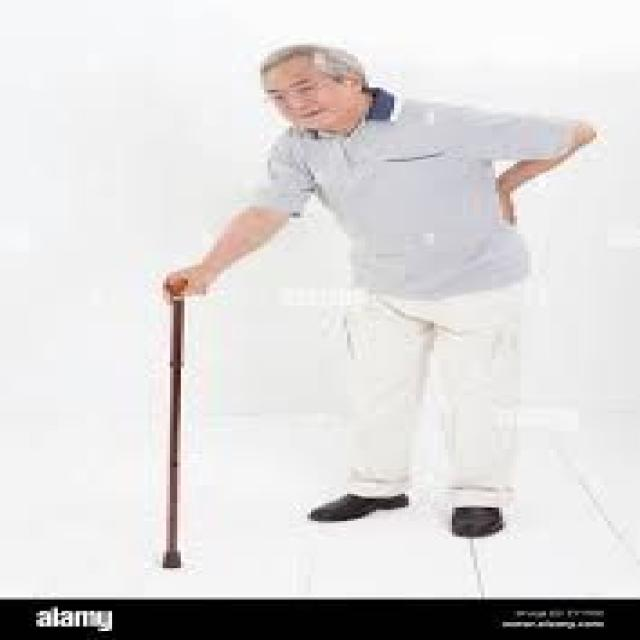idoso em pe: (221, 41, 569, 542)
